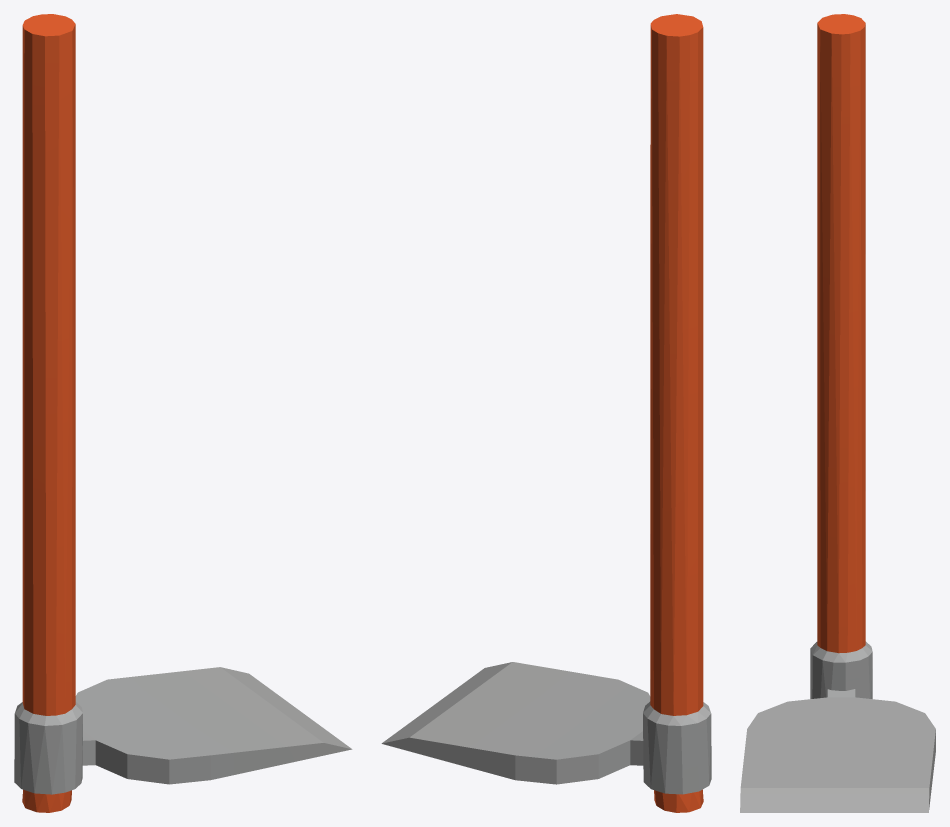
Rendered from Enxada.fbx.
3 views of the same model, side by side, from view 1: azimuth 30°, elevation 25°; view 2: azimuth 150°, elevation 25°; view 3: azimuth 270°, elevation 25° (orthographic). The views are drawn at different scales.
Parts seen in each view (by area): view 1: Enxada; view 2: Enxada; view 3: Enxada.
Part boxes in pixels (x1=…): Enxada: x1=14, y1=14, x2=352, y2=812; Enxada: x1=381, y1=14, x2=711, y2=812; Enxada: x1=740, y1=14, x2=935, y2=812.
Size of the model in its own units: 198 by 529 by 133.
Materials: 1 (1 with a texture image).
